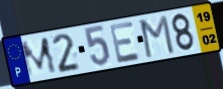2: (51, 32, 82, 75)
5: (82, 23, 112, 69)
8: (170, 11, 196, 54)
E: (108, 19, 143, 65)
M: (139, 13, 177, 60), (19, 35, 59, 79)
